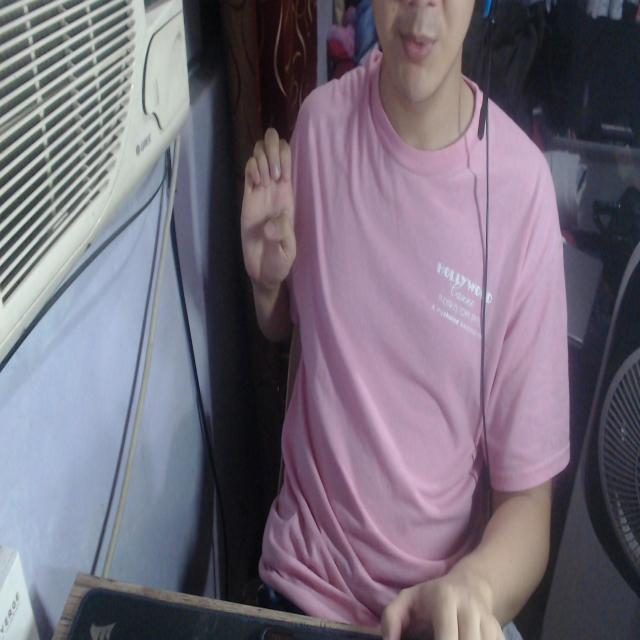E: (239, 126, 298, 289)
